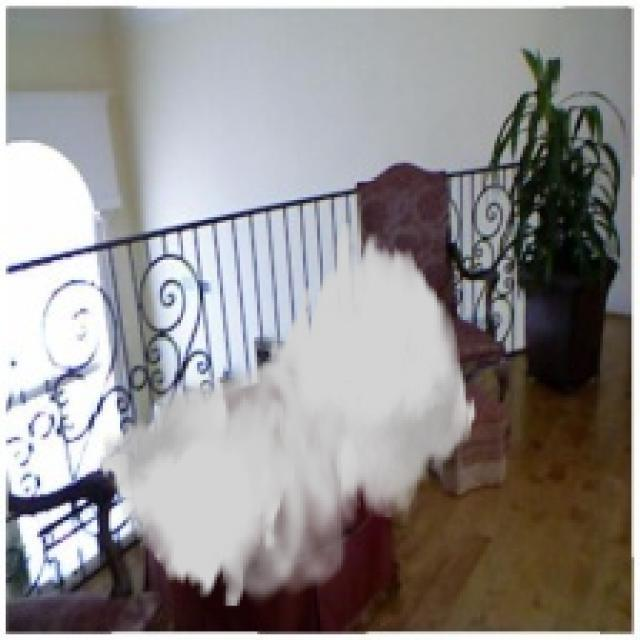Smoke: (97, 222, 477, 608)
